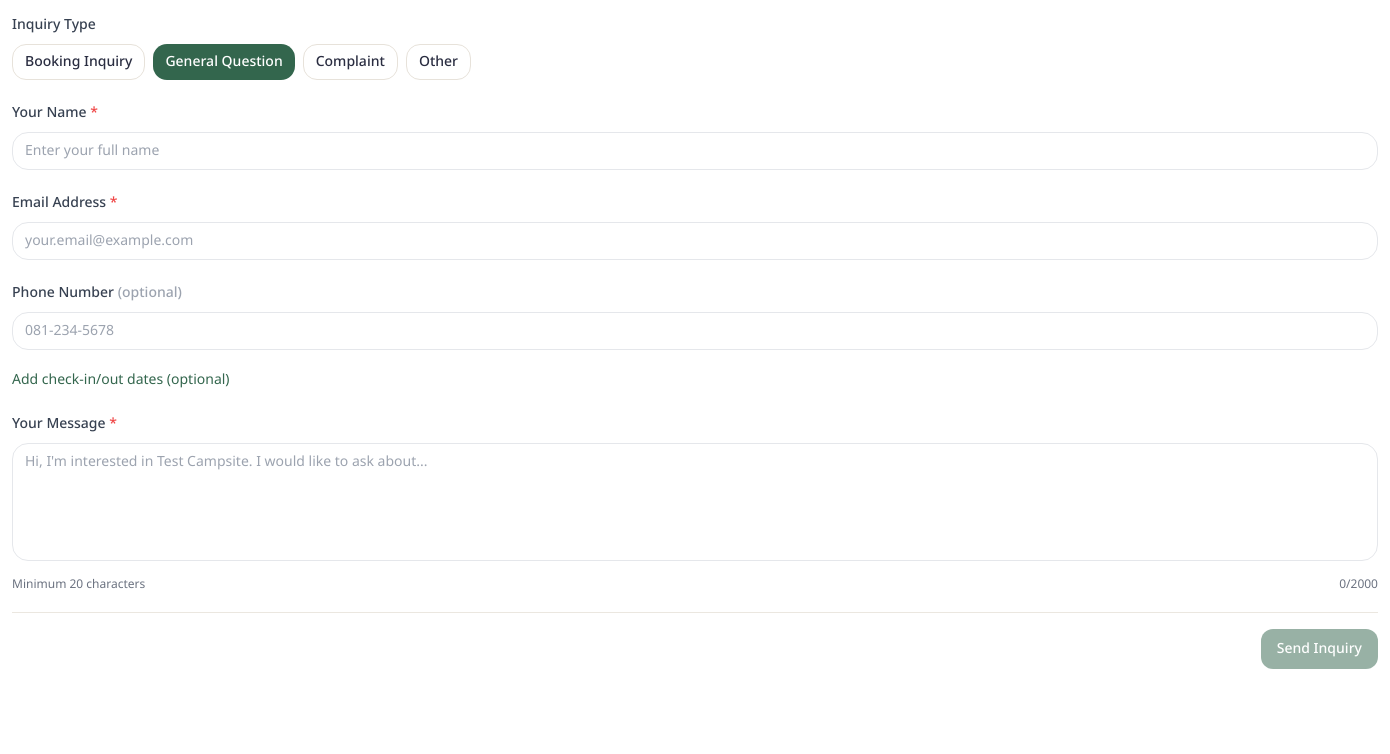
Test: InquiryForm › Form Rendering › renders optional date fields when toggled
Check: the field labelled "Check-in Date" is not shown
# Click toggle to show dates
Click the button "Add check-in/out dates (optional)" at (121, 380), box x1=12 y1=370 x2=230 y2=390
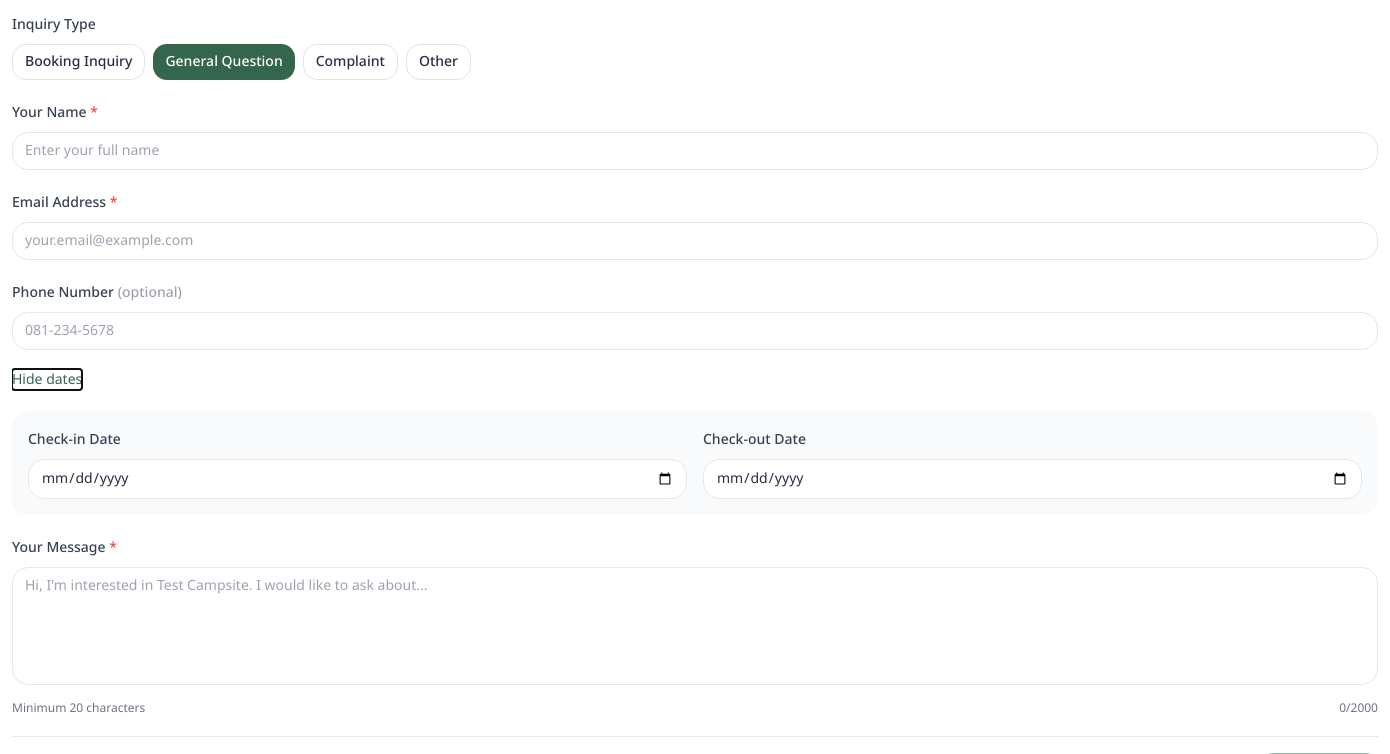
Check: the date field labelled "Check-in Date" is shown, box x1=28 y1=459 x2=687 y2=499
Check: the date field labelled "Check-out Date" is shown, box x1=703 y1=459 x2=1362 y2=499
